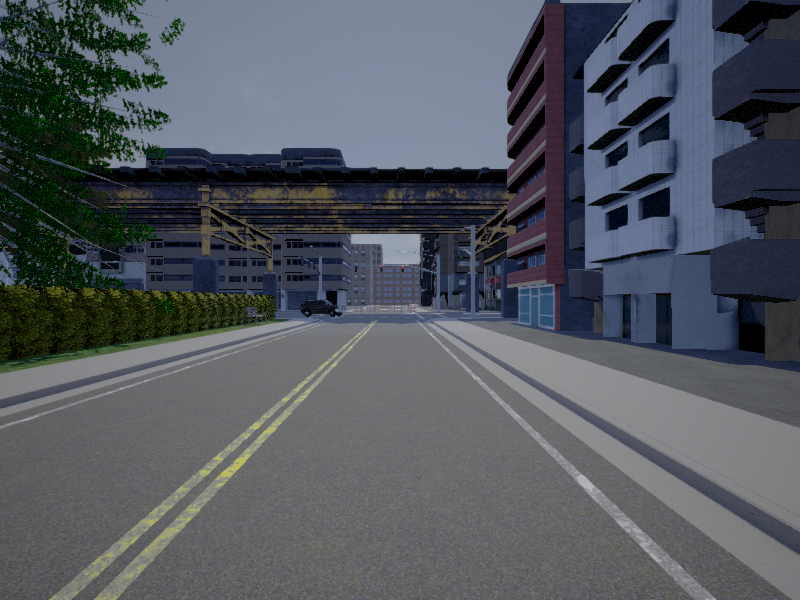Benign: (300, 301, 345, 318)
